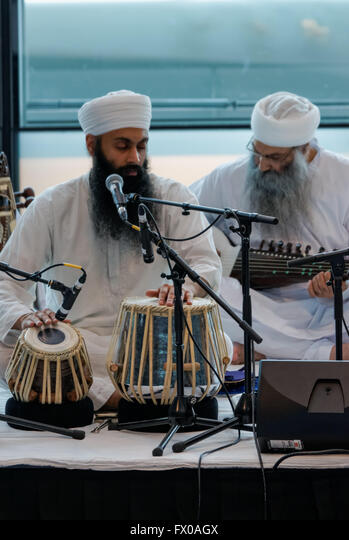tabla: (113, 296, 226, 414), (7, 323, 93, 410)
